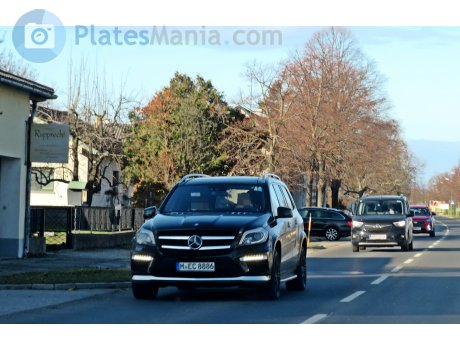License Plates: (177, 257, 219, 269)
